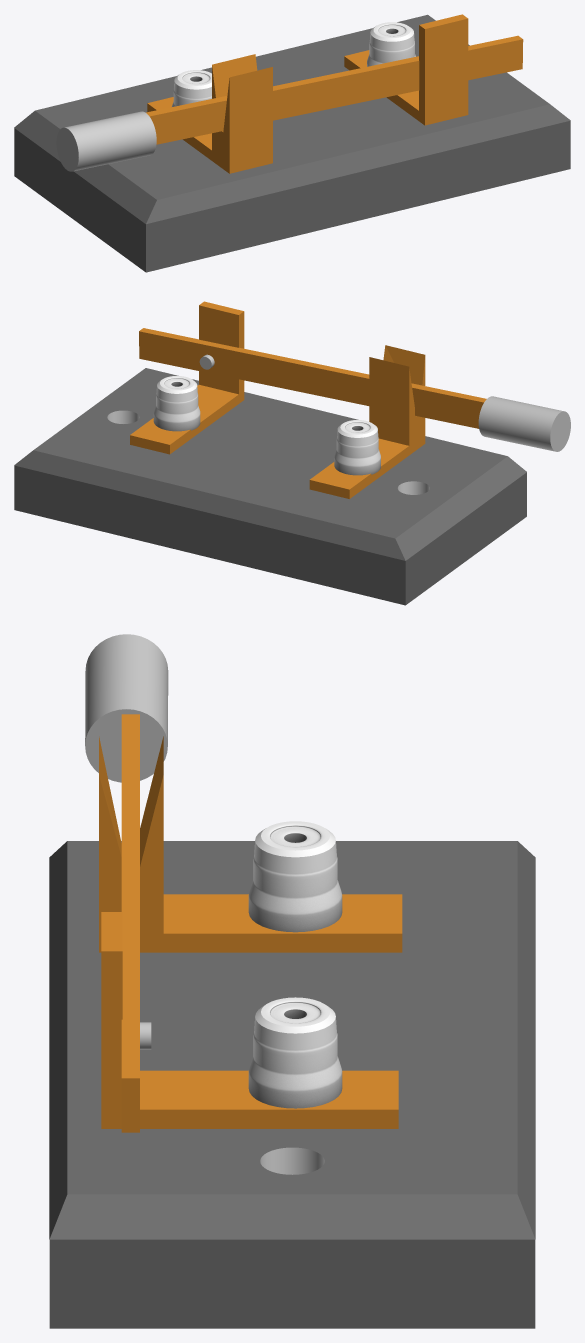
Rendered from key1.fbx.
3 views of the same model, one above another, from view 1: azimuth 30°, elevation 25°; view 2: azimuth 150°, elevation 25°; view 3: azimuth 270°, elevation 25° (orthographic). The views are drawn at different scales.
Parts seen in each view (by area): view 1: Платформа, замыкатель_1, Куб_2, Куб_1, Колпачек, Circle, Circle_2; view 2: Платформа, замыкатель_1, Куб_2, Куб_1, Колпачек, Circle, Circle_2; view 3: Платформа, Куб_2, Куб_1, Колпачек, Circle, Circle_2, замыкатель_1, Цилиндр.
Part boxes in pixels (x1,y1,x2,y2): Платформа: [14, 14, 570, 272]; замыкатель_1: [146, 35, 523, 144]; Куб_2: [147, 54, 272, 173]; Куб_1: [344, 14, 468, 125]; Колпачек: [56, 111, 156, 171]; Circle: [367, 22, 415, 66]; Circle_2: [172, 70, 211, 106]; Платформа: [14, 368, 526, 605]; замыкатель_1: [139, 328, 486, 428]; Куб_2: [309, 345, 425, 498]; Куб_1: [130, 301, 244, 454]; Колпачек: [478, 396, 570, 451]; Circle: [153, 376, 200, 431]; Circle_2: [334, 420, 380, 475]; Платформа: [49, 841, 535, 1328]; Куб_2: [99, 736, 402, 952]; Куб_1: [101, 912, 398, 1128]; Колпачек: [85, 634, 168, 782]; Circle: [248, 997, 342, 1108]; Circle_2: [248, 821, 342, 932]; замыкатель_1: [121, 714, 139, 1132]; Цилиндр: [260, 1147, 324, 1174].
Bounding box in the file's own units: 22.25 × 7.12 × 10.53.
Materials: 4 (1 with a texture image).
